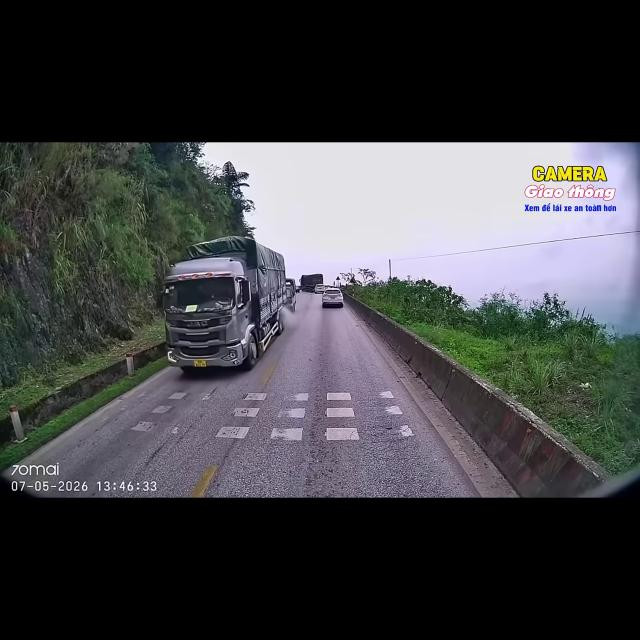car: (322, 288, 343, 307), (314, 284, 326, 294)
truck: (163, 236, 285, 374), (300, 274, 323, 292), (285, 279, 296, 311)
